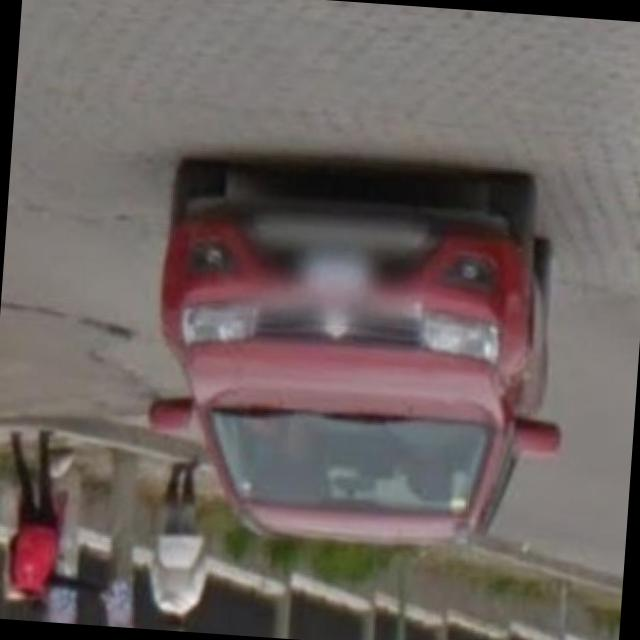car: (135, 154, 582, 554)
